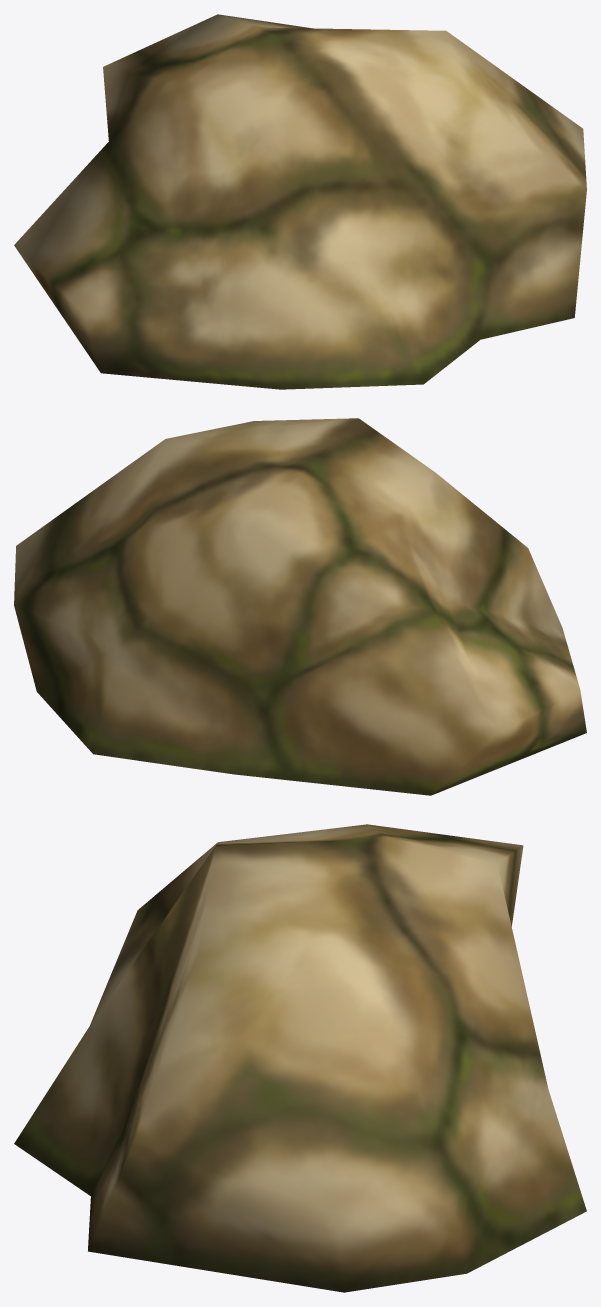
Rendered from 001IwaM02.fbx.
3 renders of one model, top to bottom at view 1: azimuth 30°, elevation 25°; view 2: azimuth 150°, elevation 25°; view 3: azimuth 270°, elevation 25°, orthographic. The views are drawn at different scales.
Visible parts, largest first — view 1: IwaM01; view 2: IwaM01; view 3: IwaM01.
Part boxes in pixels (left/top/right/bottom): IwaM01: left=14, top=14, right=586, bottom=389; IwaM01: left=14, top=418, right=586, bottom=795; IwaM01: left=14, top=824, right=586, bottom=1292.
Bounding box in the file's own units: 211 × 93.91 × 163.
Materials: 1 (1 with a texture image).
